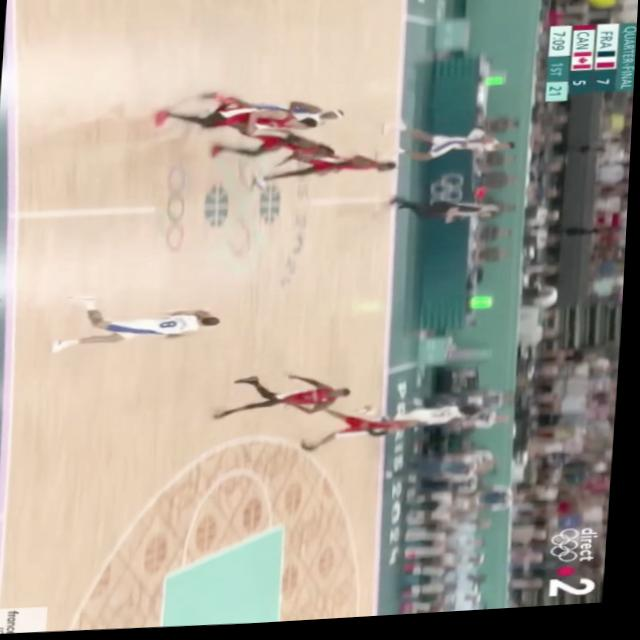ball_handler: (55, 308, 222, 351)
